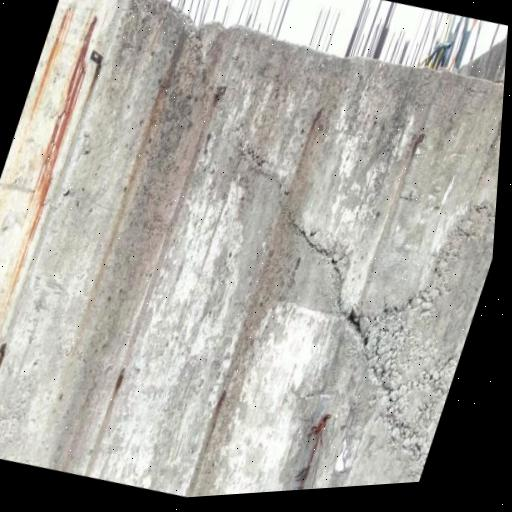exposed_rebar: (297, 413, 331, 490), (89, 50, 103, 65), (214, 85, 226, 97), (313, 108, 322, 124), (414, 133, 424, 146), (80, 54, 85, 70), (220, 389, 226, 400), (119, 368, 124, 379), (0, 343, 6, 352), (92, 17, 96, 22)
